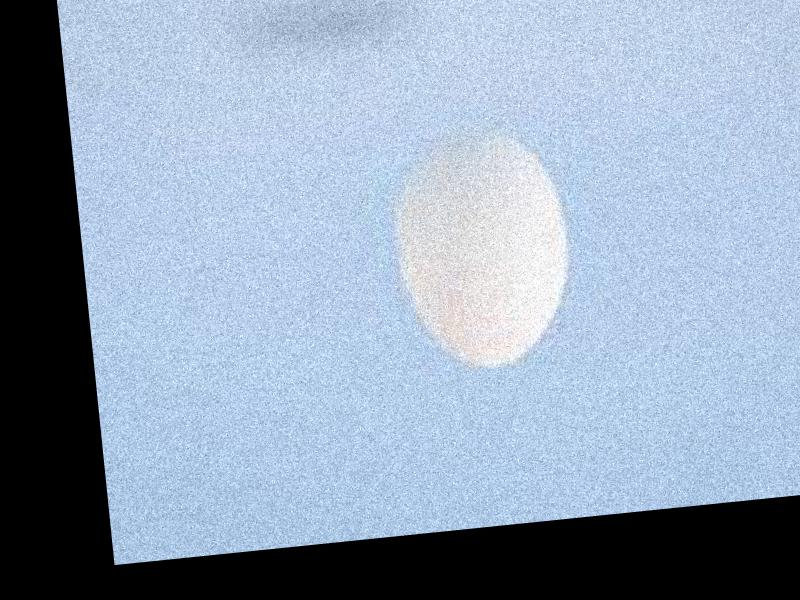Eggs: (384, 120, 579, 376)
